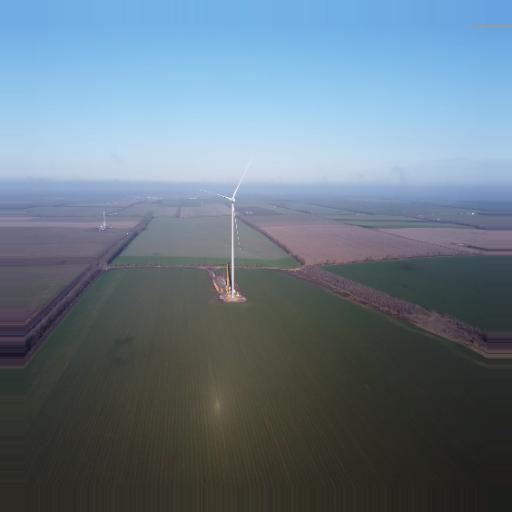wind turbine: (210, 162, 253, 298)
